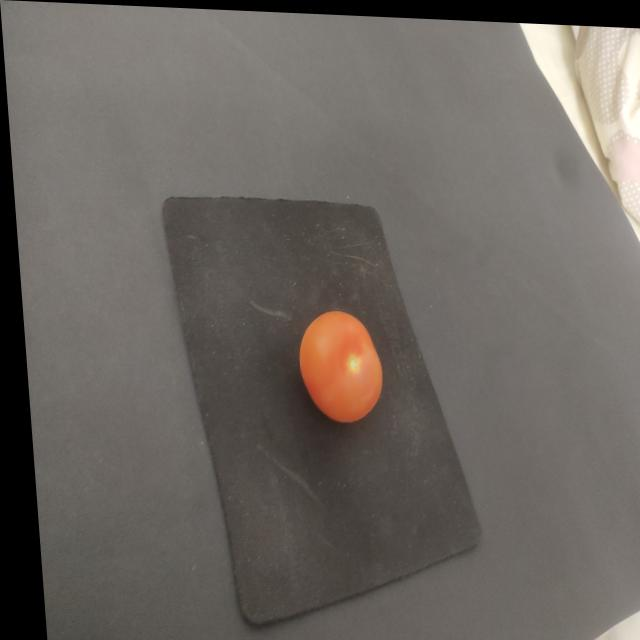sari: (275, 284, 403, 444)
